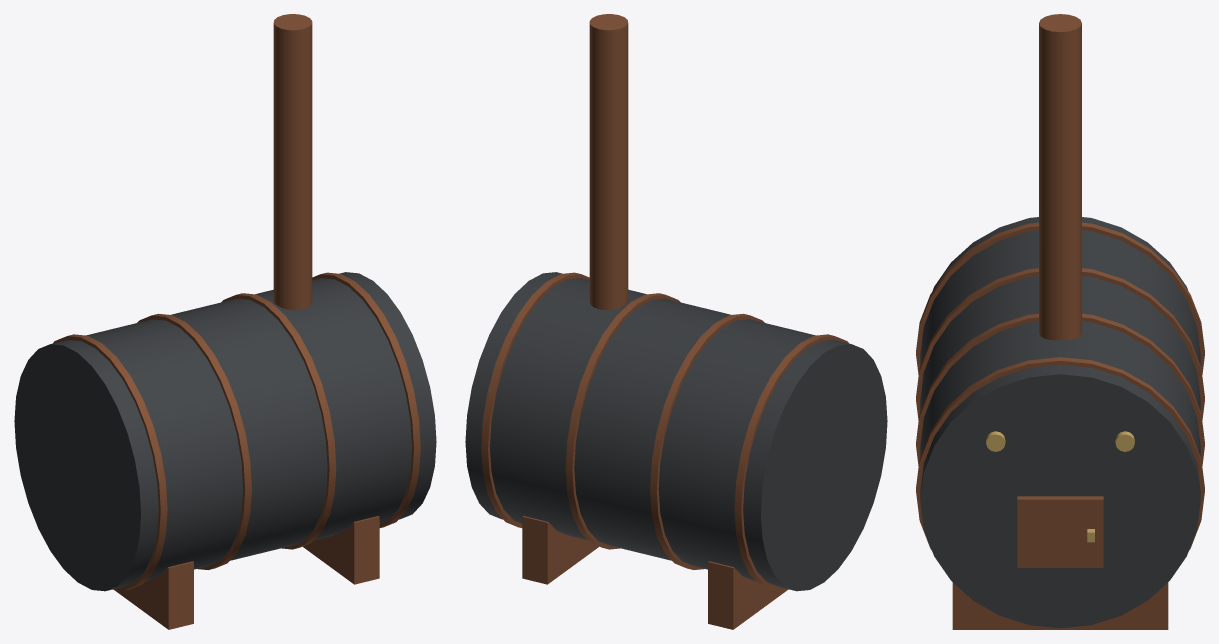
File: SM_Boiler.fbx
3 renders of one model, left to right at view 1: azimuth 30°, elevation 25°; view 2: azimuth 150°, elevation 25°; view 3: azimuth 270°, elevation 25°, orthographic. The views are drawn at different scales.
Visible parts, largest first — view 1: SM_Boiler; view 2: SM_Boiler; view 3: SM_Boiler.
Boxes of the visible parts, x1,y1,x2,y2 form: SM_Boiler: [14, 14, 436, 629]; SM_Boiler: [465, 14, 887, 629]; SM_Boiler: [916, 14, 1204, 629].
Size of what is drawn, in the model's own units: 3.65 by 6 by 2.68.
